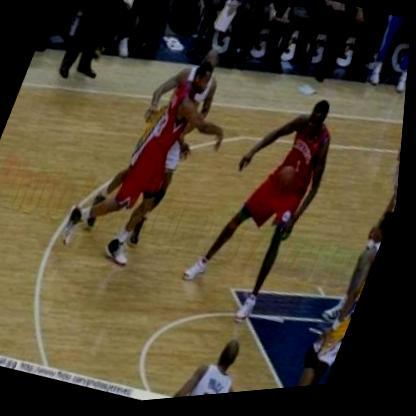basketball: (274, 170, 303, 202)
